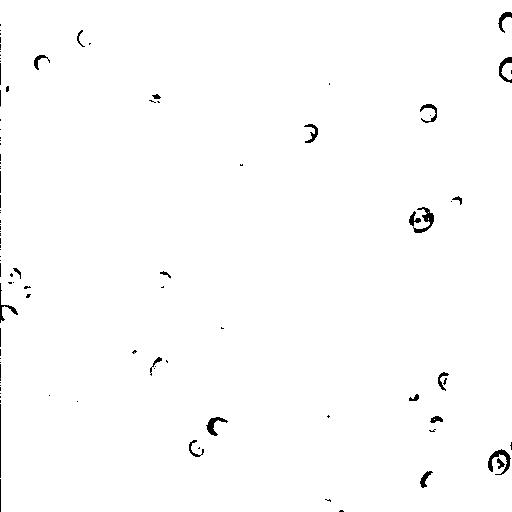micro-algae: (83, 401, 134, 453), (397, 221, 441, 269), (0, 275, 33, 332), (378, 17, 418, 59), (417, 466, 447, 495), (437, 491, 478, 511), (121, 338, 149, 367), (319, 71, 347, 99), (148, 355, 174, 385), (399, 381, 428, 407), (486, 448, 512, 477), (230, 147, 261, 171), (83, 0, 112, 23), (409, 205, 434, 231), (15, 285, 44, 307), (204, 415, 232, 436), (32, 51, 53, 77), (66, 387, 88, 411), (311, 497, 348, 511), (296, 123, 319, 144), (1, 72, 17, 101), (417, 102, 439, 123), (1, 266, 24, 285), (438, 372, 458, 393), (497, 55, 511, 83), (496, 9, 511, 35), (152, 269, 171, 288), (76, 27, 93, 48), (1, 304, 19, 323), (427, 415, 445, 433), (188, 438, 205, 457), (447, 195, 465, 210)
